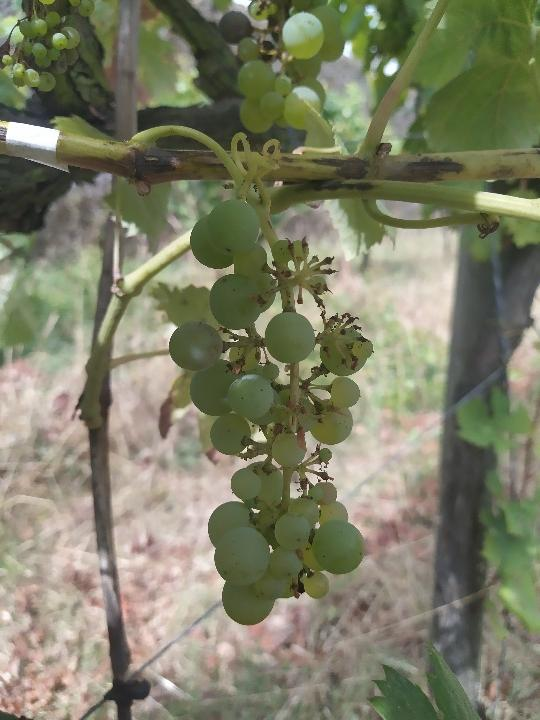grape: (166, 197, 376, 628)
